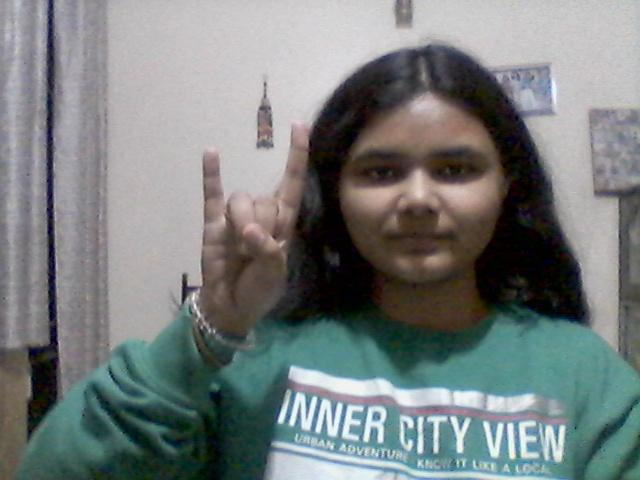ilove you: (181, 111, 320, 344)
